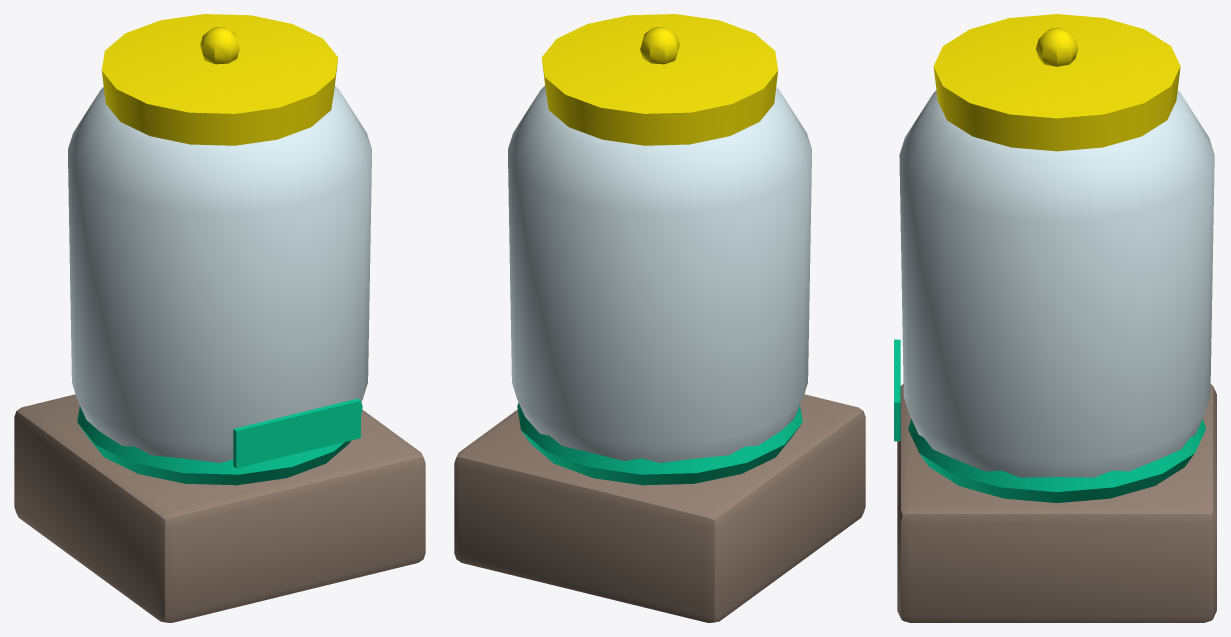
File: TW_JarDoll.fbx
3 views of the same model, side by side, from view 1: azimuth 30°, elevation 25°; view 2: azimuth 150°, elevation 25°; view 3: azimuth 270°, elevation 25° (orthographic). The views are drawn at different scales.
Parts seen in each view (by area): view 1: Body; view 2: Body; view 3: Body.
Boxes of the visible parts, x1,y1,x2,y2 form: Body: (14, 14, 425, 622); Body: (454, 14, 865, 622); Body: (894, 14, 1216, 622).
Size of the model in its own units: 1.5 by 2.75 by 1.51.
